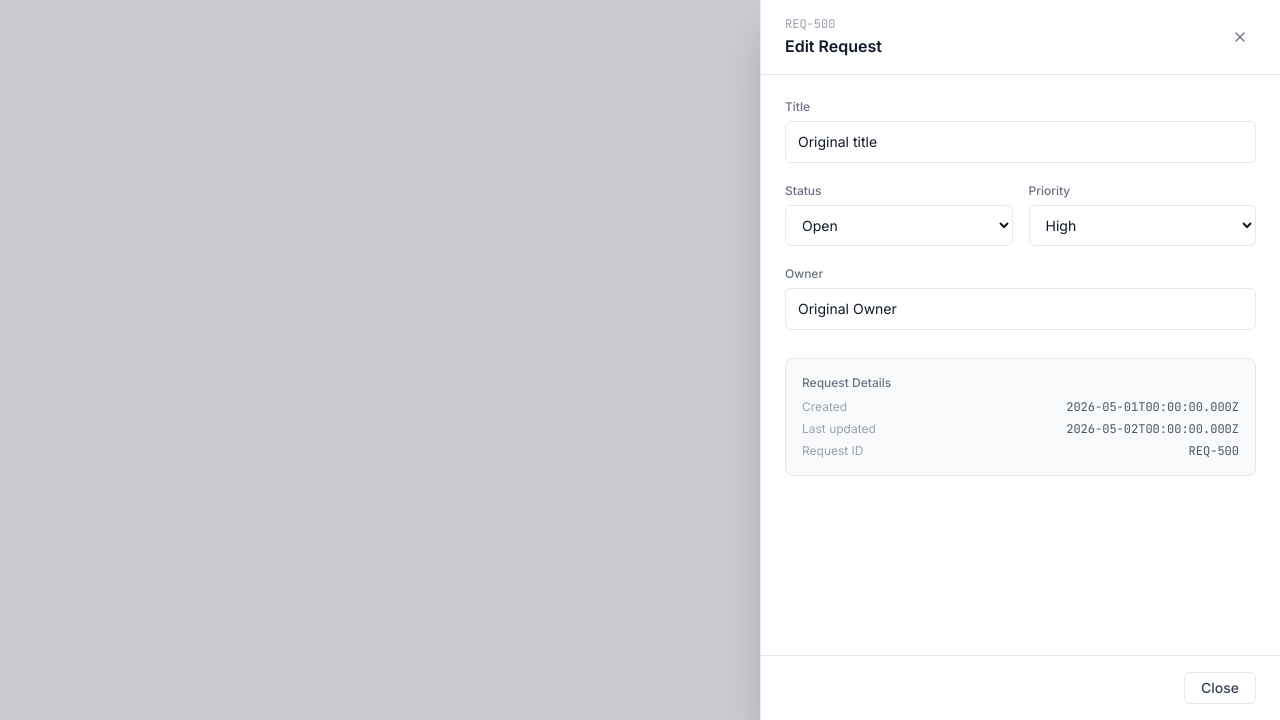
it: EditDrawer unsaved changes › revert restores every field and clears the dirty state
Replace the text in the field labelled "Title" with "New title" at (1020, 142), box top-left (785, 121), bottom-right (1256, 163)
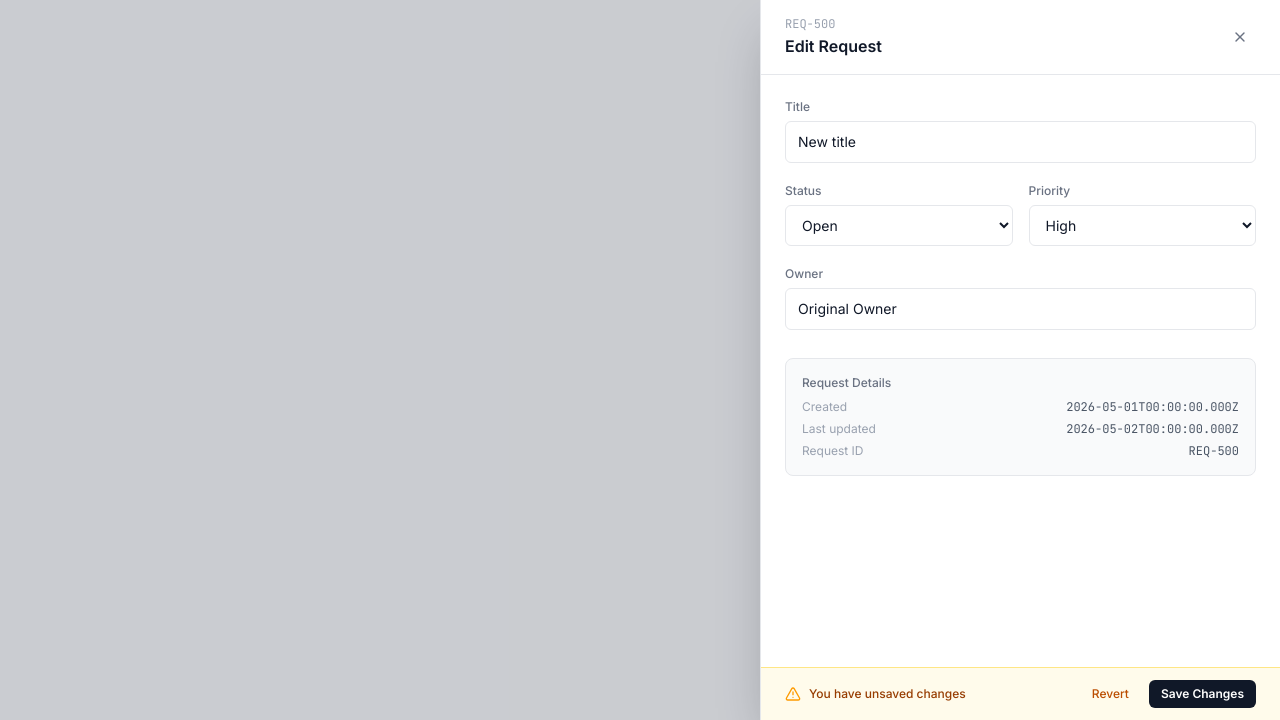
Replace the text in the field labelled "Owner" with "New Owner" at (1020, 309), box top-left (785, 288), bottom-right (1256, 330)
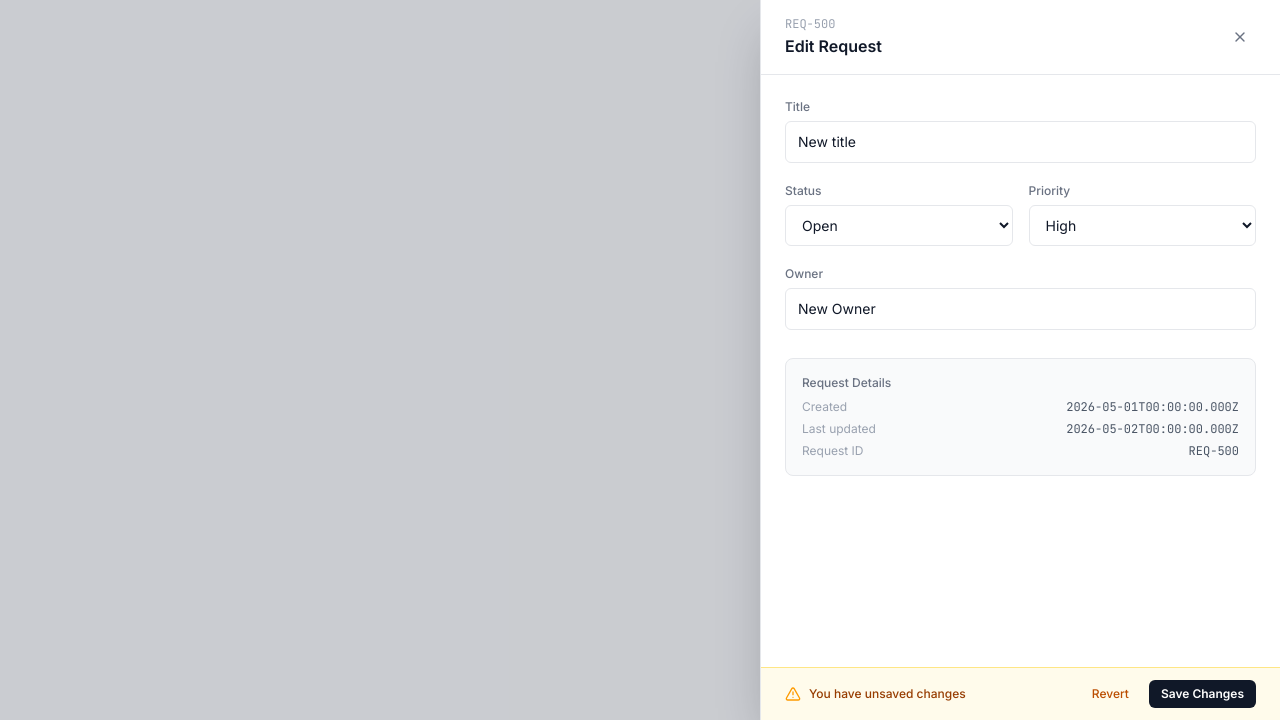
Select "Canceled" in the dropdown labelled "Status" at (899, 226), box top-left (785, 205), bottom-right (1012, 246)
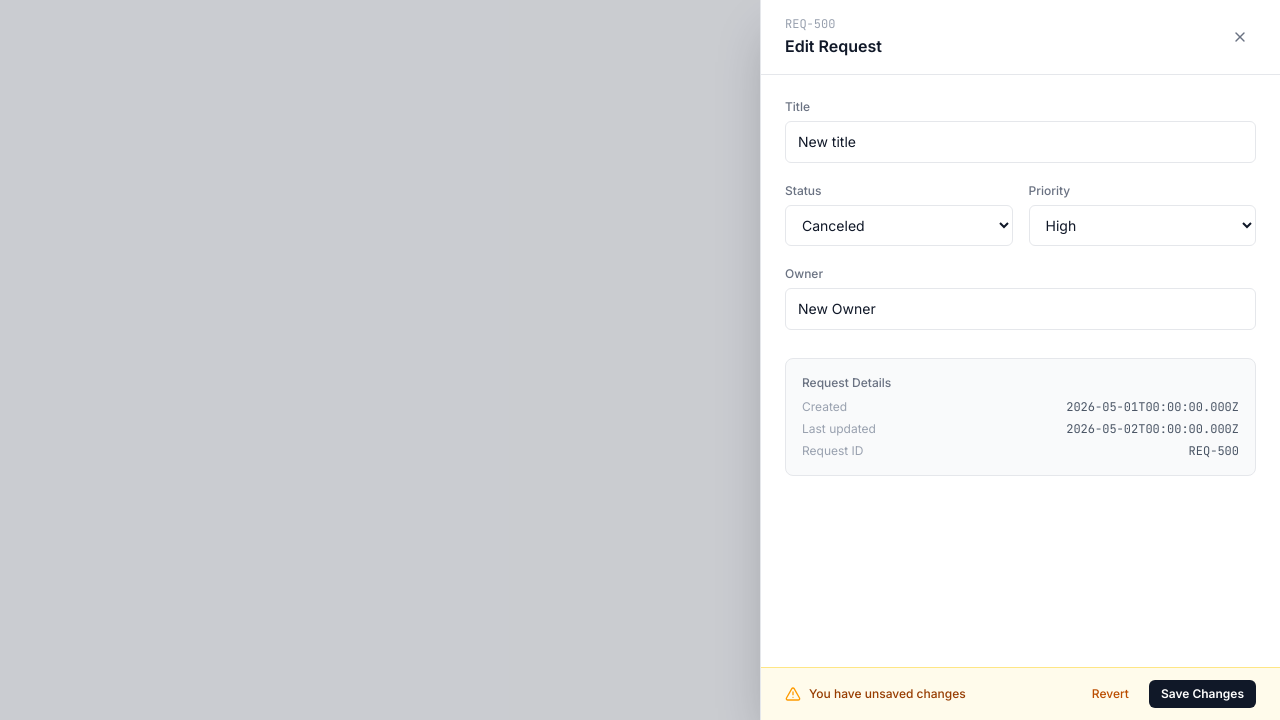
Select "Low" in the dropdown labelled "Priority" at (1142, 226), box top-left (1028, 205), bottom-right (1256, 246)
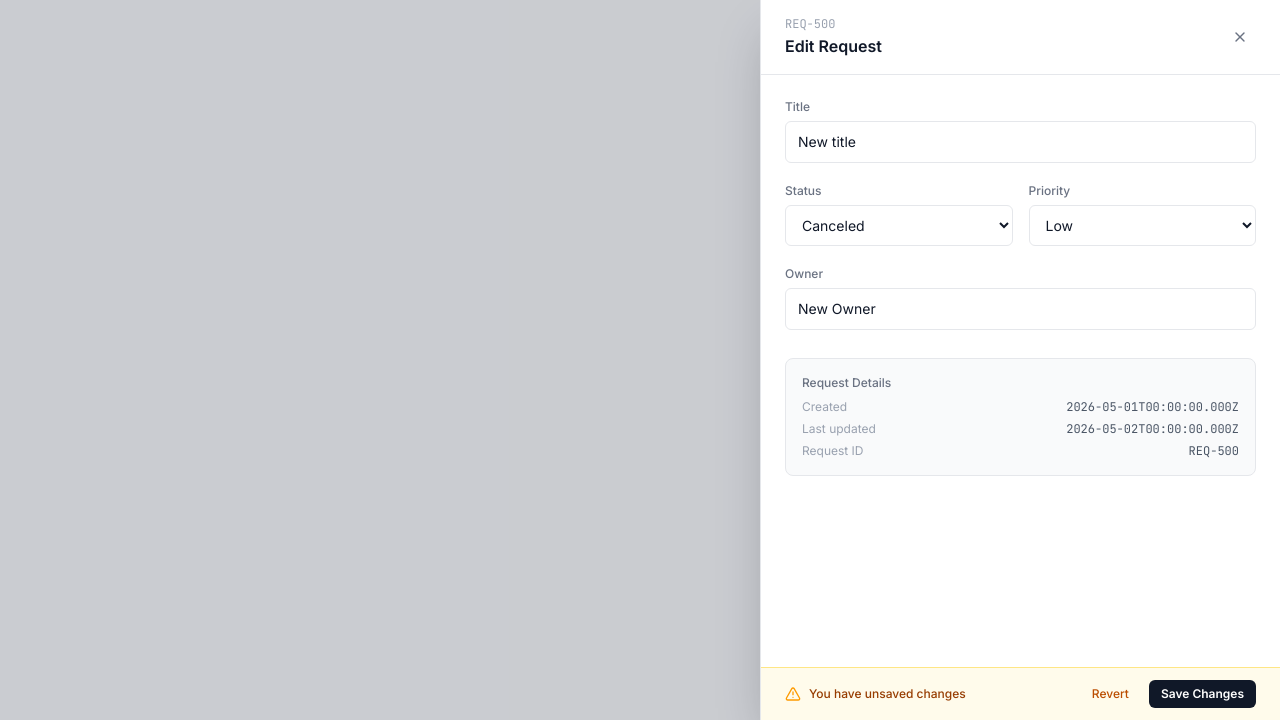
Click the button "Revert" at (1110, 694), box top-left (1080, 680), bottom-right (1141, 708)
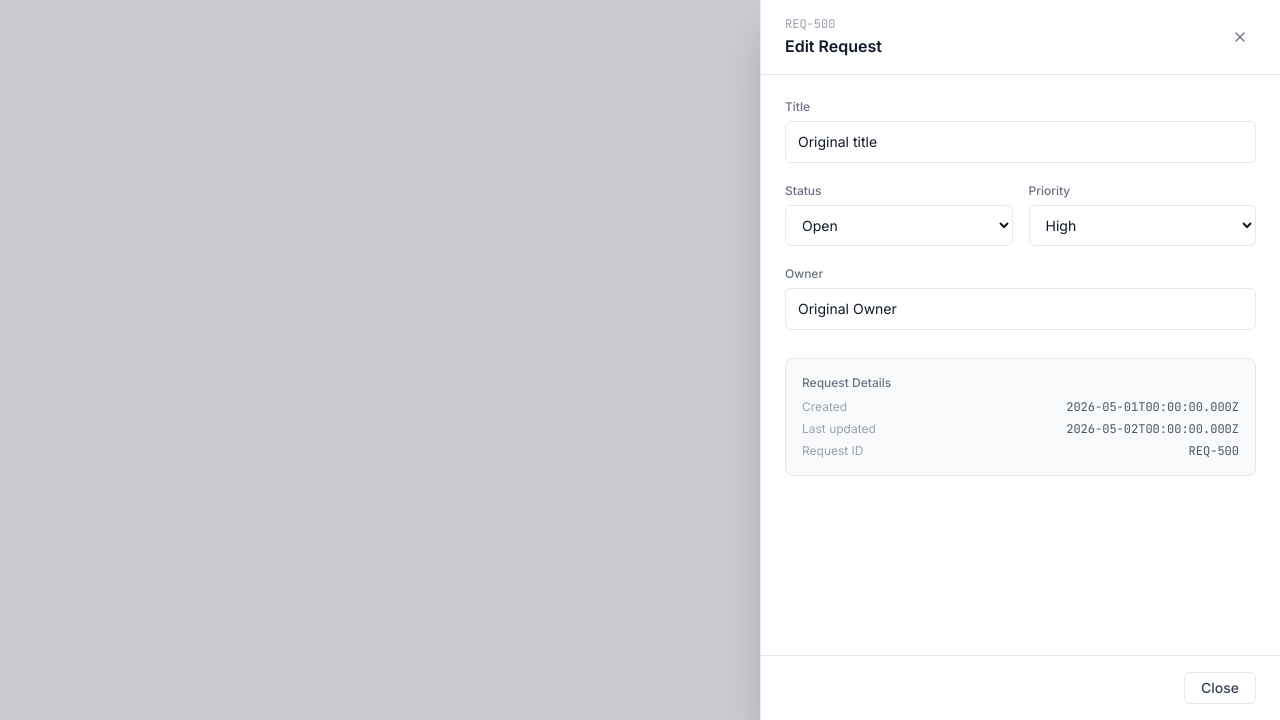
Expected: the field labelled "Title" holds "Original title", top-left (785, 121), bottom-right (1256, 163)
Expected: the field labelled "Owner" holds "Original Owner", top-left (785, 288), bottom-right (1256, 330)
Expected: the text "You have unsaved changes" is gone
